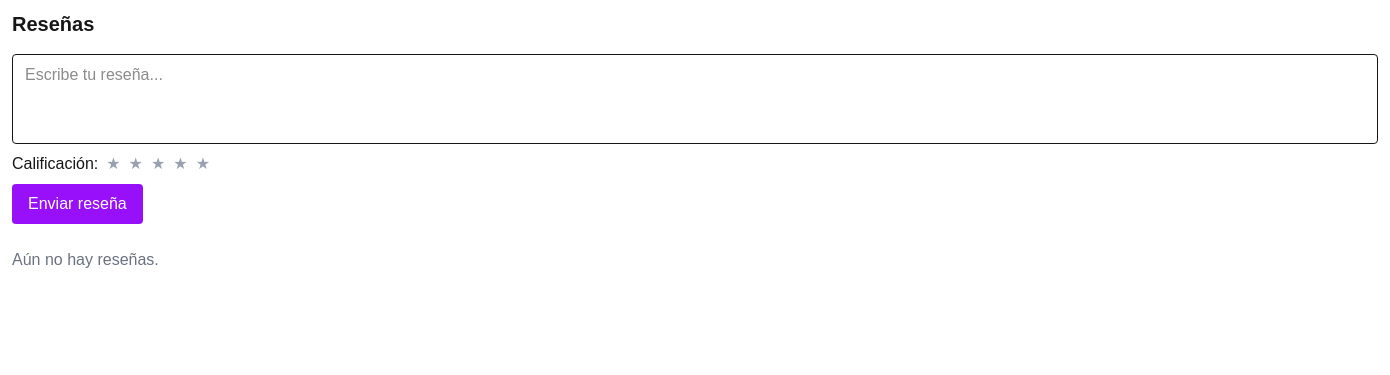
Test: ReviewsSection › debe permitir agregar una reseña con texto y calificación
This screenshot has width=1390, height=375.
Type "Excelente libro" into the text box with placeholder "Escribe tu reseña..." at (695, 99), box [12,54,1378,144]
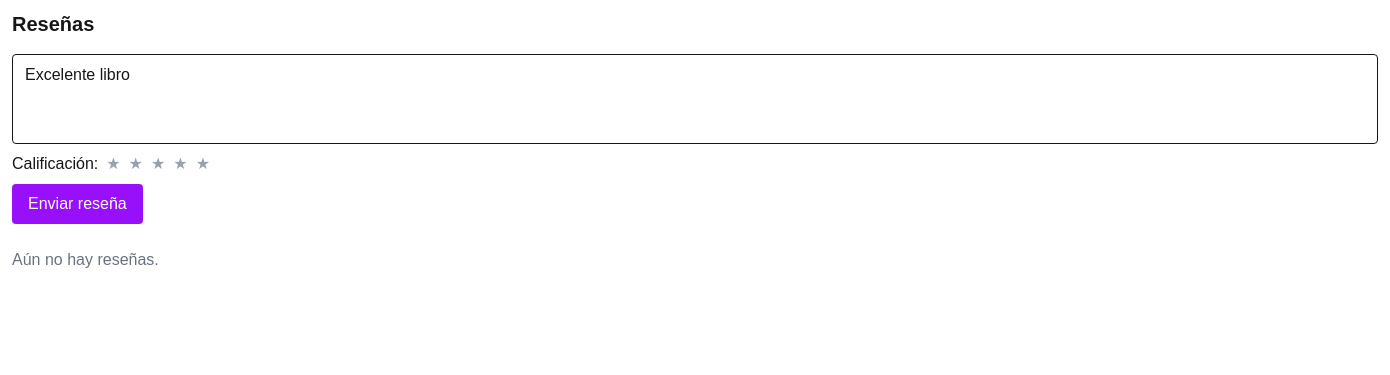
Click the 4th button "★" at (180, 164), box [173,152,188,176]
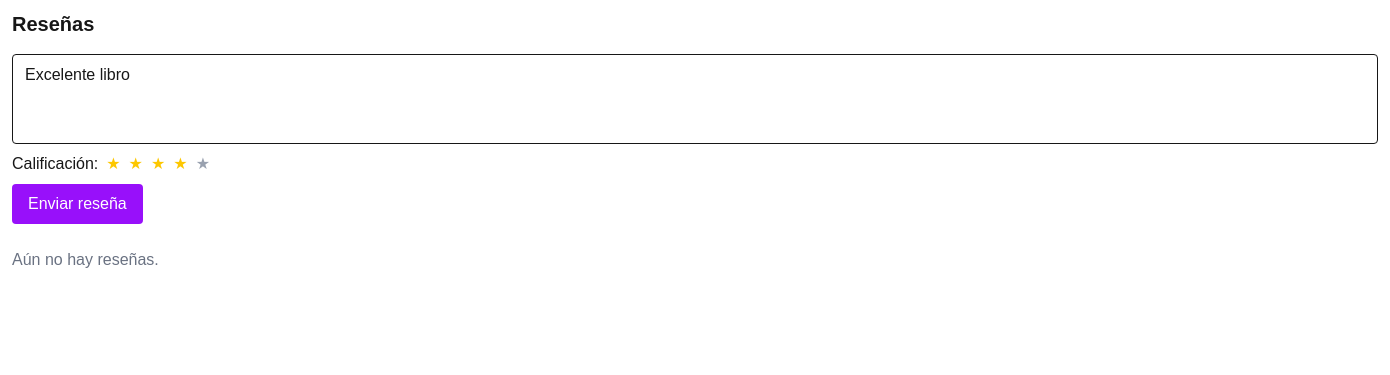
Click the button "Enviar reseña" at (77, 204), box [12,184,143,224]
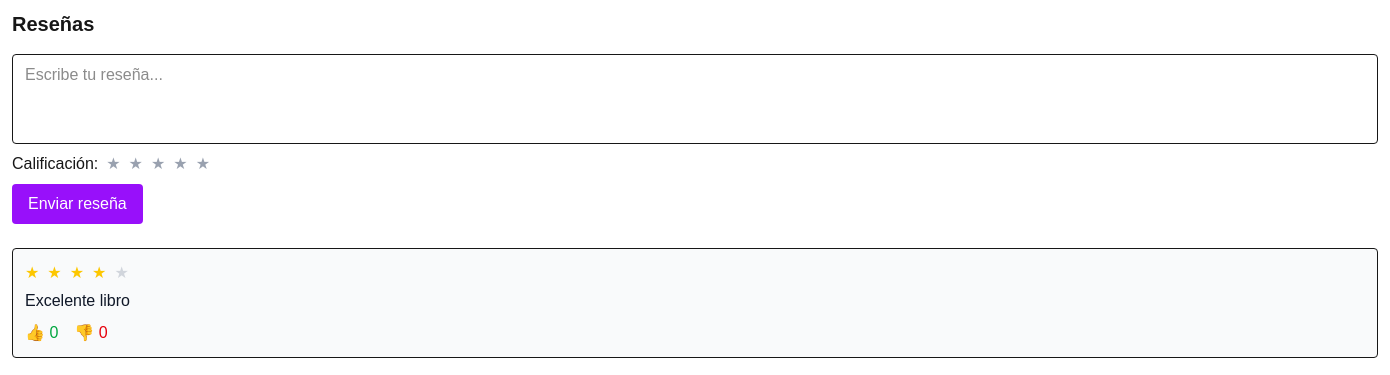
Now the text "Excelente libro" is shown, box [25,292,130,309]
